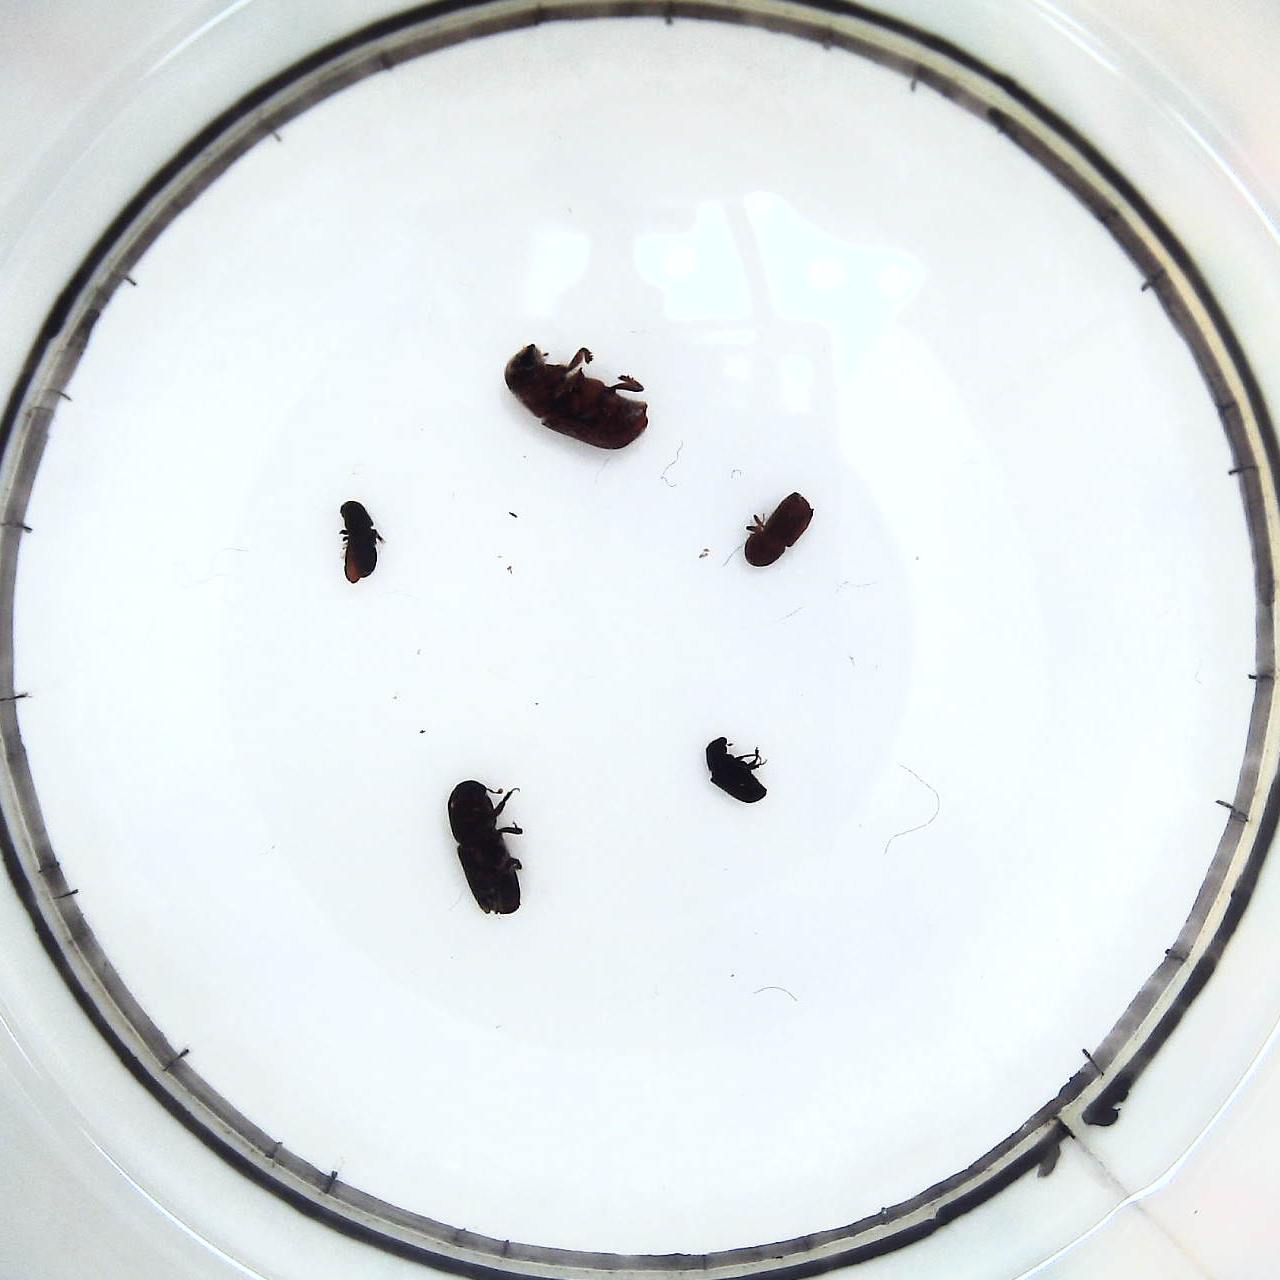Boerner: (442, 772, 532, 917)
Leconte: (503, 341, 652, 456)
armandi: (338, 497, 381, 585)
coleoptera: (703, 729, 771, 805)
linnaeus: (740, 485, 818, 573)
